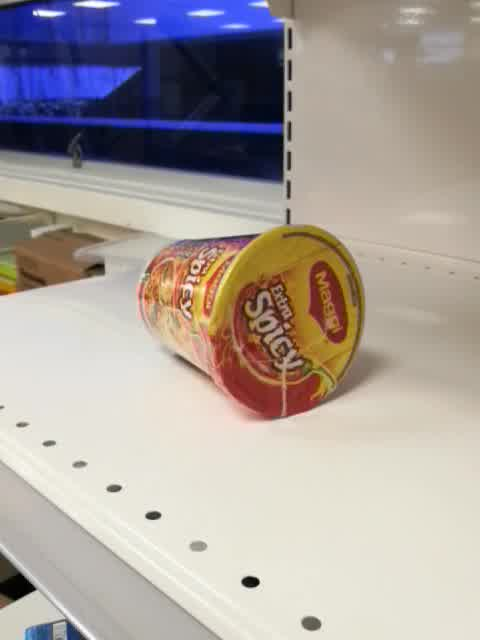maggi: (135, 223, 366, 421)
